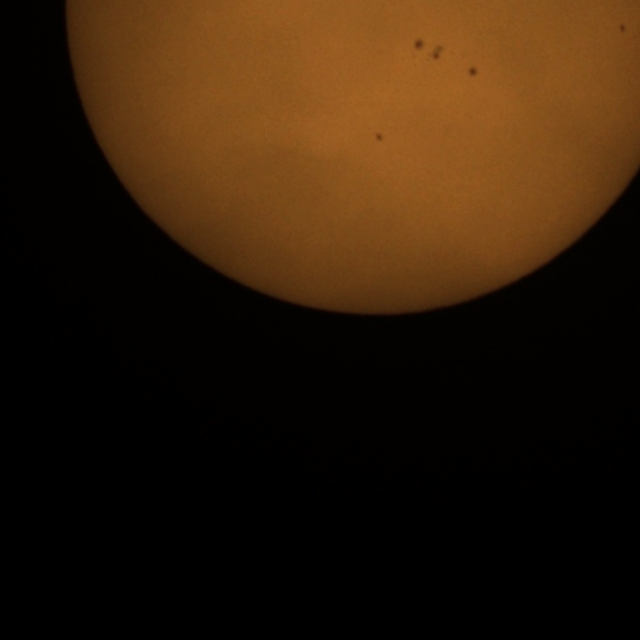sunspot: (412, 37, 445, 62), (467, 65, 479, 78), (374, 132, 384, 143), (618, 23, 627, 34)
